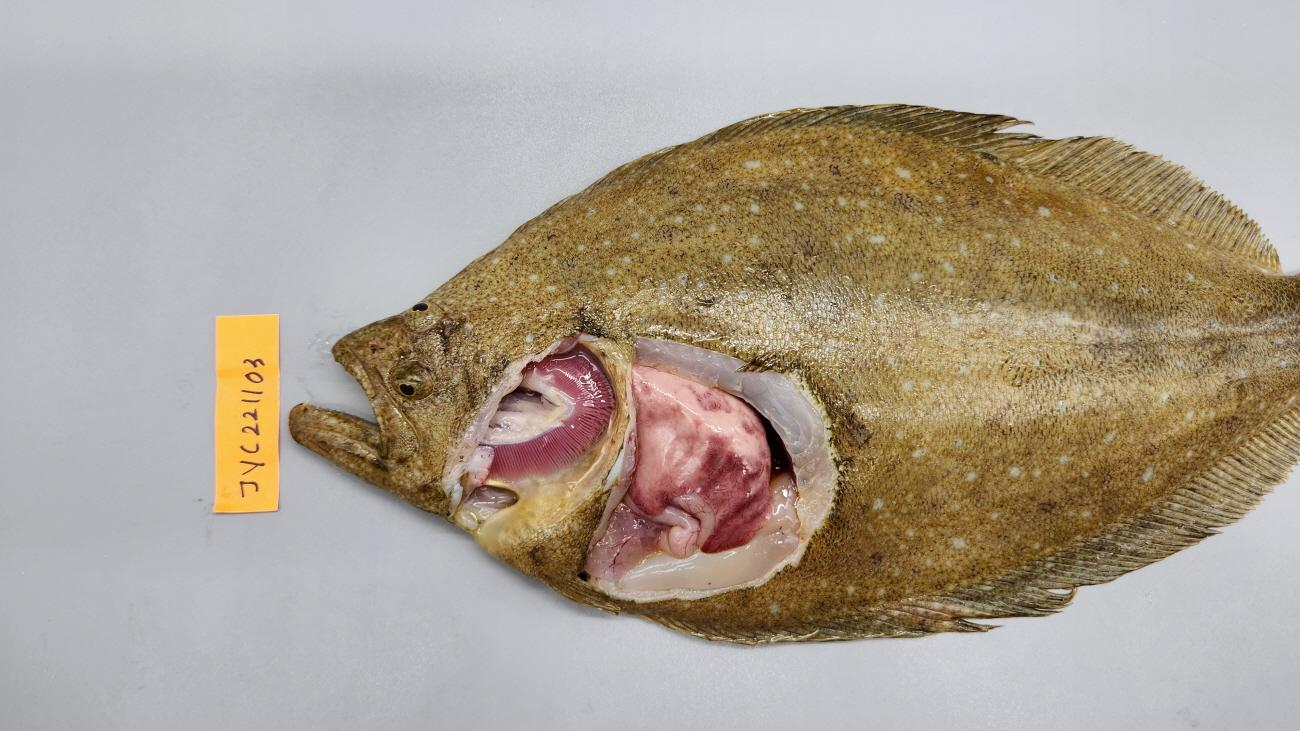SPGIP: (537, 395, 591, 451)
